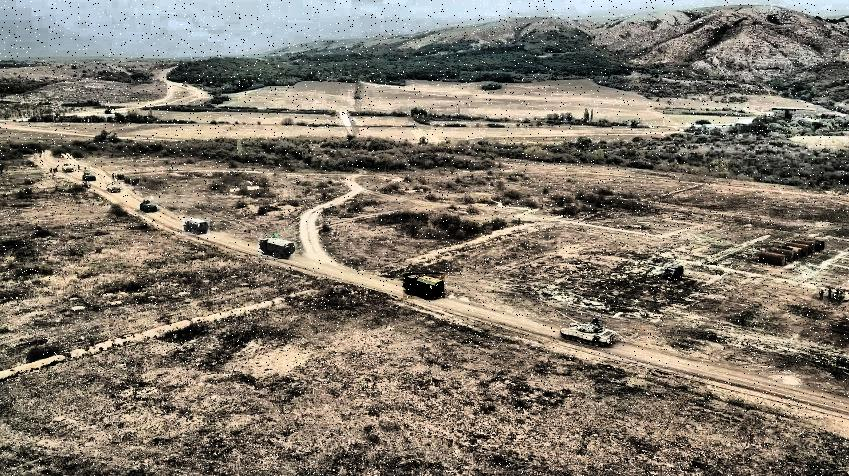military-vehicle: (560, 312, 618, 347), (403, 273, 445, 299), (258, 238, 295, 258), (183, 218, 211, 235), (139, 198, 158, 213)
